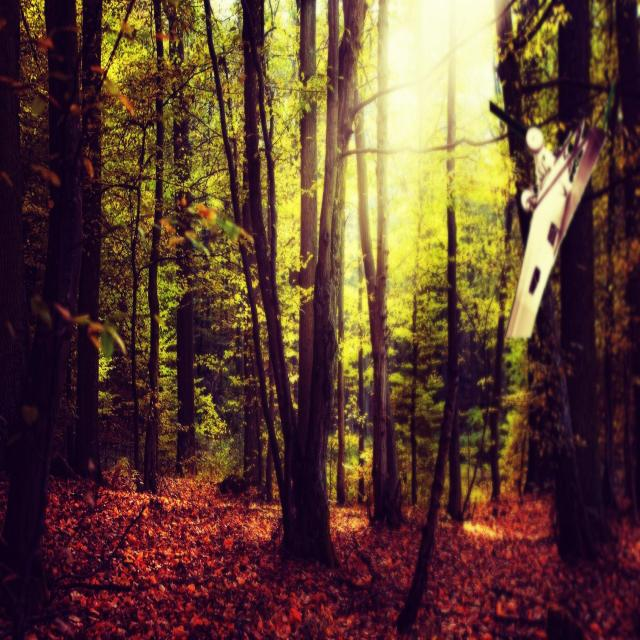airplane: (488, 97, 607, 341)
